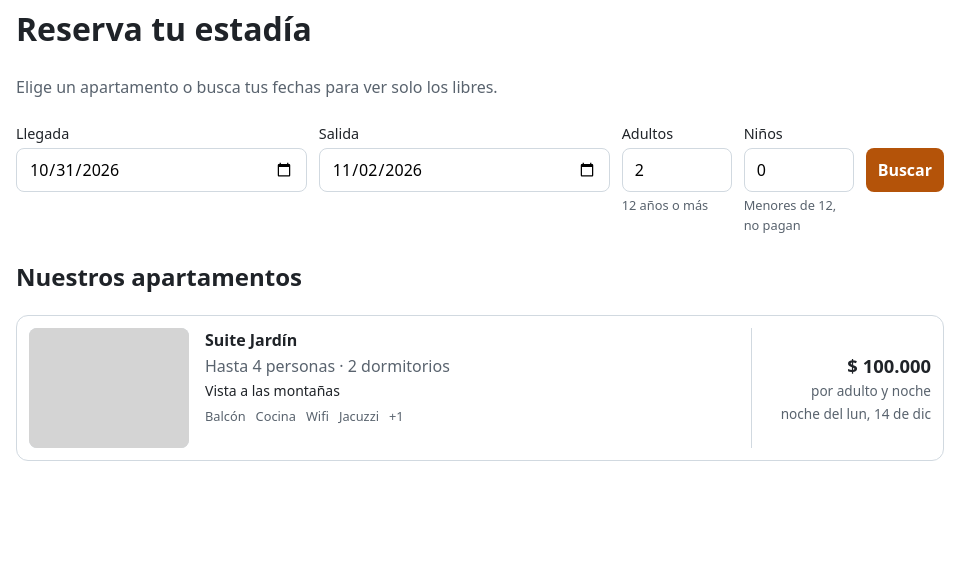
Scenario: Inicio › el filtro deja solo los libres, con el total del grupo, y se puede volver a ver todos
Expected: the heading "Nuestros apartamentos" is shown, left=16, top=260, right=302, bottom=293
Replace the text in the number field labelled "Niños" with "1". click: (799, 170)
box: left=744, top=148, right=854, bottom=192
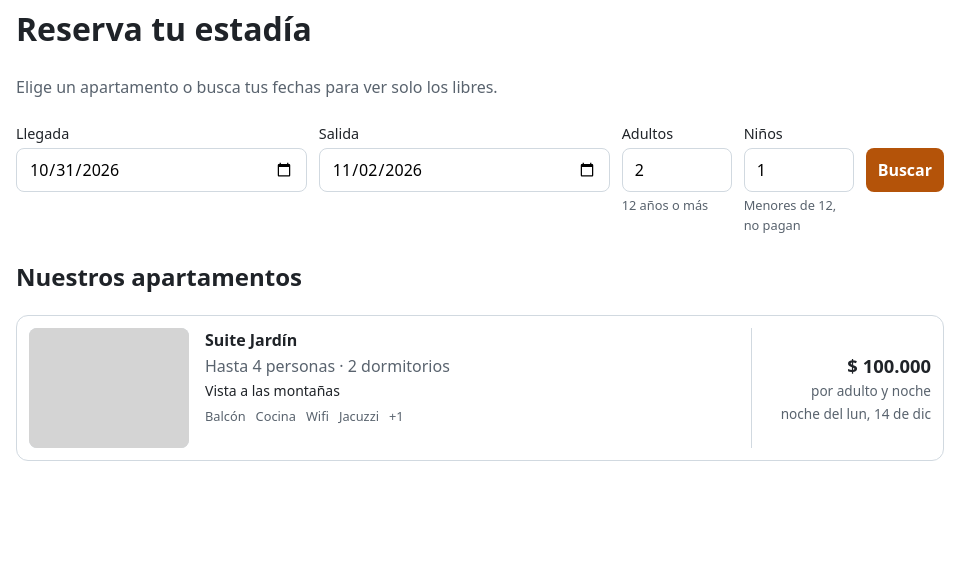
Click the button "Buscar". click: (905, 170)
box: left=866, top=148, right=944, bottom=192
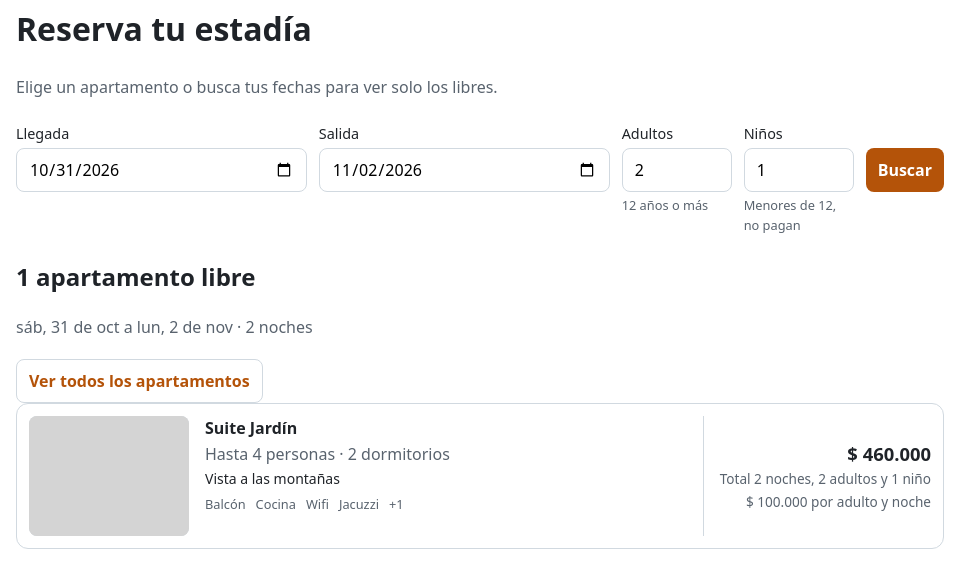
Now the heading "1 apartamento libre" is shown, box left=16, top=260, right=256, bottom=293
Now the text "$ 460.000" is shown, box left=847, top=440, right=931, bottom=467
Now the text "Total 2 noches, 2 adultos y 1 niño" is shown, box left=720, top=469, right=931, bottom=490
Click the button "Ver todos los apartamentos". click: (139, 381)
box: left=16, top=359, right=263, bottom=403
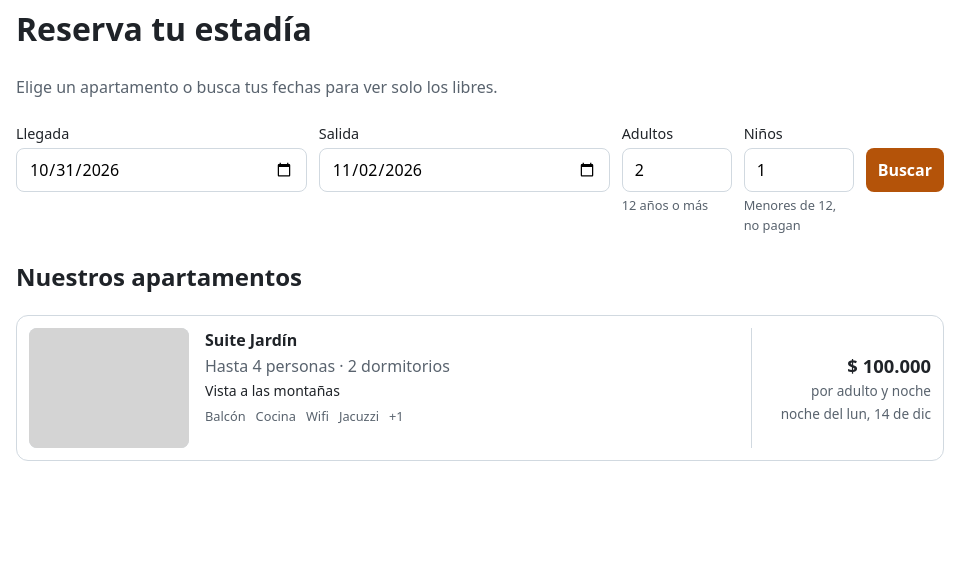
Now the heading "Nuestros apartamentos" is shown, box left=16, top=260, right=302, bottom=293
